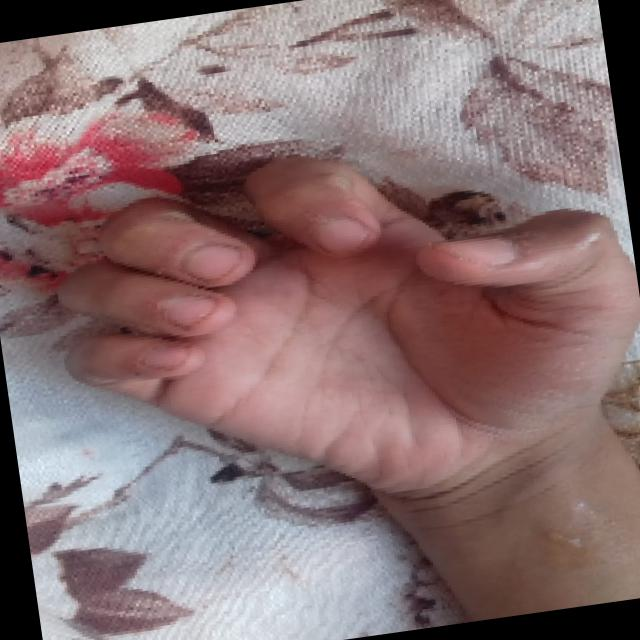Nail: (444, 236, 515, 267), (181, 244, 238, 282), (315, 216, 368, 253), (163, 295, 214, 323), (146, 341, 191, 364)
